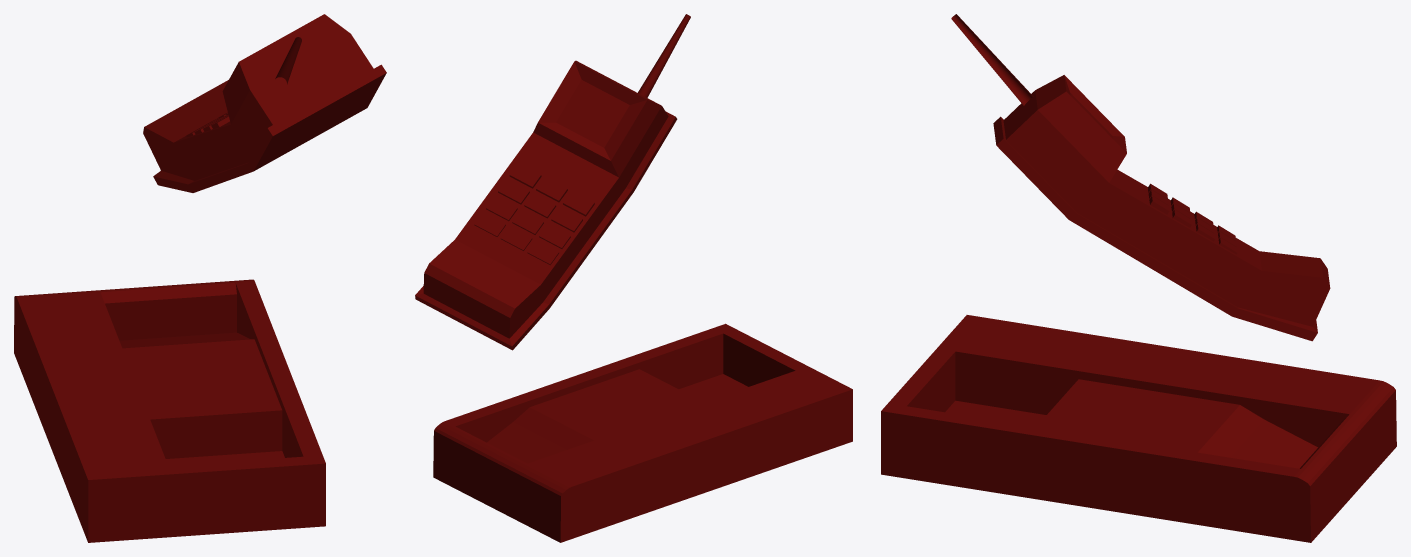
Rendered from phone-active.glb.
The picture shows the model from 3 angles, left to right: view 1: azimuth 30°, elevation 25°; view 2: azimuth 150°, elevation 25°; view 3: azimuth 270°, elevation 25°; orthographic projection. The views are drawn at different scales.
Parts seen in each view (by area): view 1: phone_close; view 2: phone_close; view 3: phone_close.
Part boxes in pixels (bbox=[...]): phone_close: bbox=[14, 14, 386, 542]; phone_close: bbox=[415, 14, 852, 542]; phone_close: bbox=[881, 14, 1396, 542].
Size of the model in its own units: 0.9743 by 1.21 by 1.21.
